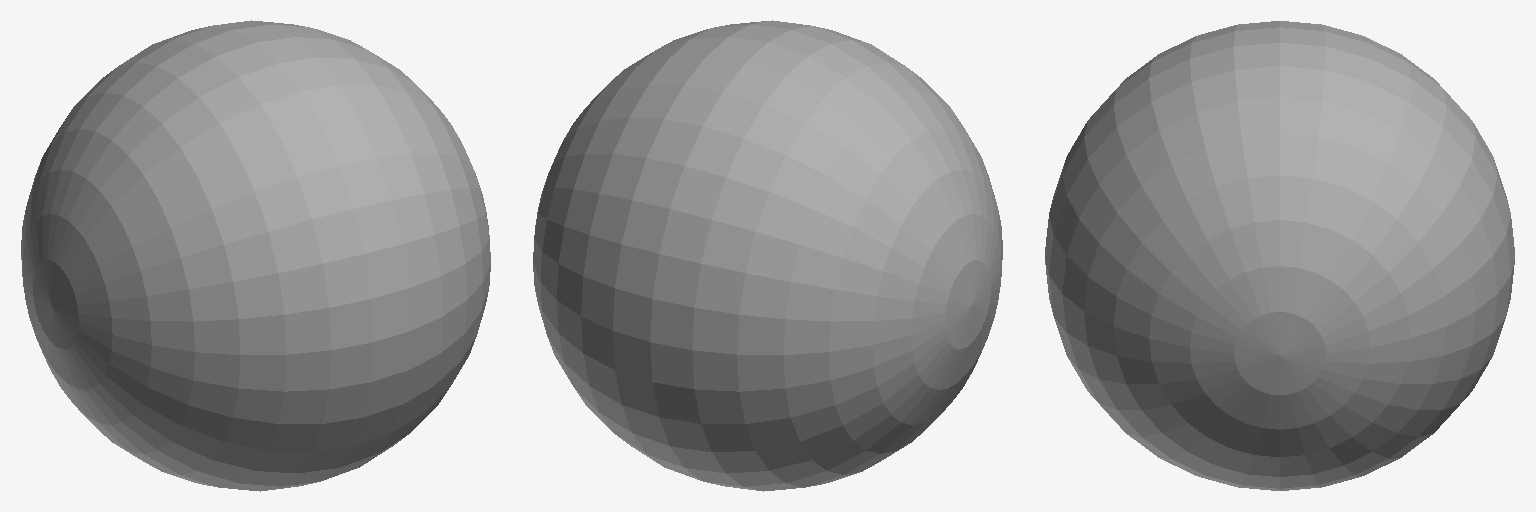
URDF robot description (panda):
<?xml version="1.0" ?>
<!-- =================================================================================== -->
<!-- |    This document was autogenerated by xacro from panda_arm_hand.urdf.xacro      | -->
<!-- |    EDITING THIS FILE BY HAND IS NOT RECOMMENDED                                 | -->
<!-- =================================================================================== -->
<robot name="panda" xmlns:xacro="http://www.ros.org/wiki/xacro">
  <link name="base_link"/>
  <joint name="base_joint" type="fixed">
    <origin rpy="0 0 0" xyz="0 0 0"/>
    <parent link="base_link"/>
    <child link="panda_link0"/>
  </joint>
  <link name="panda_link0">
  	<inertial>
      <origin rpy="0 0 0" xyz="0 0 0.05"/>
       <mass value="2.9"/>
       <inertia ixx="0.1" ixy="0" ixz="0" iyy="0.1" iyz="0" izz="0.1"/>
    </inertial>
    <visual>
      <geometry>
        <mesh filename="meshes/visual/link0.dae"/>
      </geometry>
      <material name="panda_white">
    		<color rgba="1. 1. 1. 1."/>
  		</material>
    </visual>
    <collision>
      <geometry>
        <mesh filename="meshes/collision/link0.stl"/>
      </geometry>
      <material name="panda_white"/>
    </collision>
  </link>
  <link name="panda_link1">
  	<inertial>
      <origin rpy="0 0 0" xyz="0 -0.04 -0.05"/>
       <mass value="2.7"/>
       <inertia ixx="0.1" ixy="0" ixz="0" iyy="0.1" iyz="0" izz="0.1"/>
    </inertial>
    <visual>
      <geometry>
        <mesh filename="meshes/visual/link1.dae"/>
      </geometry>
      <material name="panda_white"/>
    </visual>
    <collision>
      <geometry>
        <mesh filename="meshes/collision/link1.stl"/>
      </geometry>
      <material name="panda_white"/>
    </collision>
  </link>
  <joint name="panda_joint1" type="revolute">
    <safety_controller k_position="100.0" k_velocity="40.0" soft_lower_limit="-2.8973" soft_upper_limit="2.8973"/>
    <origin rpy="0 0 0" xyz="0 0 0.333"/>
    <parent link="panda_link0"/>
    <child link="panda_link1"/>
    <axis xyz="0 0 1"/>
    <limit effort="87" lower="-2.8973" upper="2.8973" velocity="2.1750"/>
  </joint>
  <link name="panda_link2">
  	<inertial>
      <origin rpy="0 0 0" xyz="0 -0.04 0.06"/>
       <mass value="2.73"/>
       <inertia ixx="0.1" ixy="0" ixz="0" iyy="0.1" iyz="0" izz="0.1"/>
    </inertial>
    <visual>
      <geometry>
        <mesh filename="meshes/visual/link2.dae"/>
      </geometry>
      <material name="panda_white"/>
    </visual>
    <collision>
      <geometry>
        <mesh filename="meshes/collision/link2.stl"/>
      </geometry>
      <material name="panda_white"/>
    </collision>
  </link>
  <joint name="panda_joint2" type="revolute">
    <safety_controller k_position="100.0" k_velocity="40.0" soft_lower_limit="-1.7628" soft_upper_limit="1.7628"/>
    <origin rpy="-1.57079632679 0 0" xyz="0 0 0"/>
    <parent link="panda_link1"/>
    <child link="panda_link2"/>
    <axis xyz="0 0 1"/>
    <limit effort="87" lower="-1.7628" upper="1.7628" velocity="2.1750"/>
  </joint>
  <link name="panda_link3">
	  <inertial>
      <origin rpy="0 0 0" xyz="0.01 0.01 -0.05"/>
       <mass value="2.04"/>
       <inertia ixx="0.1" ixy="0" ixz="0" iyy="0.1" iyz="0" izz="0.1"/>
    </inertial>
    <visual>
      <geometry>
        <mesh filename="meshes/visual/link3.dae"/>
      </geometry>
      <material name="panda_red">
    		<color rgba="1. 1. 1. 1."/>
  		</material>
    </visual>
    <collision>
      <geometry>
        <mesh filename="meshes/collision/link3.stl"/>
      </geometry>
    </collision>
  </link>
  <joint name="panda_joint3" type="revolute">
    <safety_controller k_position="100.0" k_velocity="40.0" soft_lower_limit="-2.8973" soft_upper_limit="2.8973"/>
    <origin rpy="1.57079632679 0 0" xyz="0 -0.316 0"/>
    <parent link="panda_link2"/>
    <child link="panda_link3"/>
    <axis xyz="0 0 1"/>
    <limit effort="87" lower="-2.8973" upper="2.8973" velocity="2.1750"/>
  </joint>
  <link name="panda_link4">
  	<inertial>
      <origin rpy="0 0 0" xyz="-0.03 0.03 0.02"/>
       <mass value="2.08"/>
       <inertia ixx="0.1" ixy="0" ixz="0" iyy="0.1" iyz="0" izz="0.1"/>
    </inertial>
    <visual>
      <geometry>
        <mesh filename="meshes/visual/link4.dae"/>
      </geometry>
      <material name="panda_white"/>
    </visual>
    <collision>
      <geometry>
        <mesh filename="meshes/collision/link4.stl"/>
      </geometry>
      <material name="panda_white"/>
    </collision>
  </link>
  <joint name="panda_joint4" type="revolute">
    <safety_controller k_position="100.0" k_velocity="40.0" soft_lower_limit="-3.0718" soft_upper_limit="-0.0698"/>
    <origin rpy="1.57079632679 0 0" xyz="0.0825 0 0"/>
    <parent link="panda_link3"/>
    <child link="panda_link4"/>
    <axis xyz="0 0 1"/>
    <limit effort="87" lower="-3.0718" upper="-0.0698" velocity="2.1750"/>
  </joint>
  <link name="panda_link5">
  	<inertial>
      <origin rpy="0 0 0" xyz="0 0.04 -0.12"/>
       <mass value="3"/>
       <inertia ixx="0.1" ixy="0" ixz="0" iyy="0.1" iyz="0" izz="0.1"/>
    </inertial>
    <visual>
      <geometry>
        <mesh filename="meshes/visual/link5.dae"/>
      </geometry>
      <material name="panda_white"/>
    </visual>
    <collision>
      <geometry>
        <mesh filename="meshes/collision/link5.stl"/>
      </geometry>
      <material name="panda_white"/>
    </collision>
  </link>
  <joint name="panda_joint5" type="revolute">
    <safety_controller k_position="100.0" k_velocity="40.0" soft_lower_limit="-2.8973" soft_upper_limit="2.8973"/>
    <origin rpy="-1.57079632679 0 0" xyz="-0.0825 0.384 0"/>
    <parent link="panda_link4"/>
    <child link="panda_link5"/>
    <axis xyz="0 0 1"/>
    <limit effort="12" lower="-2.8973" upper="2.8973" velocity="2.6100"/>
  </joint>
  <link name="panda_link6">
  	<inertial>
      <origin rpy="0 0 0" xyz="0.04 0 0"/>
       <mass value="1.3"/>
       <inertia ixx="0.1" ixy="0" ixz="0" iyy="0.1" iyz="0" izz="0.1"/>
    </inertial>
    <visual>
      <geometry>
        <mesh filename="meshes/visual/link6.dae"/>
      </geometry>
      <material name="panda_white"/>
    </visual>
    <collision>
      <geometry>
        <mesh filename="meshes/collision/link6.stl"/>
      </geometry>
      <material name="panda_white"/>
    </collision>
  </link>
  <joint name="panda_joint6" type="revolute">
    <safety_controller k_position="100.0" k_velocity="40.0" soft_lower_limit="-0.0175" soft_upper_limit="3.7525"/>
    <origin rpy="1.57079632679 0 0" xyz="0 0 0"/>
    <parent link="panda_link5"/>
    <child link="panda_link6"/>
    <axis xyz="0 0 1"/>
    <limit effort="12" lower="-0.0175" upper="3.7525" velocity="2.6100"/>
  </joint>
  <link name="panda_link7">
  	<inertial>
      <origin rpy="0 0 0" xyz="0 0 0.08"/>
       <mass value=".2"/>
       <inertia ixx="0.1" ixy="0" ixz="0" iyy="0.1" iyz="0" izz="0.1"/>
    </inertial>
    <visual>
      <geometry>
        <mesh filename="meshes/visual/link7.dae"/>
      </geometry>
      <material name="panda_white"/>
    </visual>
    <collision>
      <geometry>
        <mesh filename="meshes/collision/link7.stl"/>
      </geometry>
      <material name="panda_white"/>
    </collision>
  </link>
  <joint name="panda_joint7" type="revolute">
    <safety_controller k_position="100.0" k_velocity="40.0" soft_lower_limit="-2.8973" soft_upper_limit="2.8973"/>
    <origin rpy="1.57079632679 0 0" xyz="0.088 0 0"/>
    <parent link="panda_link6"/>
    <child link="panda_link7"/>
    <axis xyz="0 0 1"/>
    <limit effort="12" lower="-2.8973" upper="2.8973" velocity="2.6100"/>
  </joint>
  <link name="panda_link8">
  	 <inertial>
      <origin rpy="0 0 0" xyz="0 0 0"/>
       <mass value="0.0"/>
       <inertia ixx="0.1" ixy="0" ixz="0" iyy="0.1" iyz="0" izz="0.1"/>
    </inertial>
  </link>
  <joint name="panda_joint8" type="fixed">
    <origin rpy="0 0 0" xyz="0 0 0.107"/>
    <parent link="panda_link7"/>
    <child link="panda_link8"/>
    <axis xyz="0 0 0"/>
  </joint>
  <joint name="panda_hand_joint" type="fixed">
    <parent link="panda_link8"/>
    <child link="panda_hand"/>
    <origin rpy="0 0 -0.785398163397" xyz="0 0 0"/>
  </joint>
  <link name="panda_hand">
  	<inertial>
      <origin rpy="0 0 0" xyz="0 0 0.04"/>
       <mass value=".81"/>
       <inertia ixx="0.1" ixy="0" ixz="0" iyy="0.1" iyz="0" izz="0.1"/>
    </inertial>
    <visual>
      <geometry>
        <mesh filename="meshes/visual/hand.dae"/>
      </geometry>
      <material name="panda_white"/>
    </visual>
    <collision>
      <geometry>
        <mesh filename="meshes/collision/hand.stl"/>
      </geometry>
      <material name="panda_white"/>
    </collision>
  </link>
  <link name="panda_leftfinger">
       <contact>
      <friction_anchor/>
      <stiffness value="30000.0"/>
      <damping value="1000.0"/>
      <spinning_friction value="0.1"/>
      <lateral_friction value="1.0"/>
    </contact>
  	<inertial>
      <origin rpy="0 0 0" xyz="0 0.01 0.02"/>
       <mass value="0.1"/>
       <inertia ixx="0.1" ixy="0" ixz="0" iyy="0.1" iyz="0" izz="0.1"/>
    </inertial>
    <visual>
      <geometry>
        <mesh filename="meshes/visual/finger.dae"/>
      </geometry>
      <material name="panda_white"/>
    </visual>
    <collision>
      <geometry>
        <mesh filename="meshes/collision/finger.stl"/>
      </geometry>
      <material name="panda_white"/>
    </collision>
  </link>
  <link name="panda_rightfinger">
        <contact>
      <friction_anchor/>
      <stiffness value="30000.0"/>
      <damping value="1000.0"/>
      <spinning_friction value="0.1"/>
      <lateral_friction value="1.0"/>
    </contact>

  	<inertial>
      <origin rpy="0 0 0" xyz="0 -0.01 0.02"/>
       <mass value="0.1"/>
       <inertia ixx="0.1" ixy="0" ixz="0" iyy="0.1" iyz="0" izz="0.1"/>
    </inertial>
    <visual>
      <origin rpy="0 0 3.14159265359" xyz="0 0 0"/>
      <geometry>
        <mesh filename="meshes/visual/finger.dae"/>
      </geometry>
      <material name="panda_white"/>
    </visual>
    <collision>
      <origin rpy="0 0 3.14159265359" xyz="0 0 0"/>
      <geometry>
        <mesh filename="meshes/collision/finger.stl"/>
      </geometry>
      <material name="panda_white"/>
    </collision>
  </link>
  <!-- <joint name="panda_finger_joint1" type="prismatic"> -->
  <joint name="panda_finger_joint1" type="fixed">
    <parent link="panda_hand"/>
    <child link="panda_leftfinger"/>
    <origin rpy="0 0 0" xyz="0 0 0.0584"/>
    <axis xyz="0 1 0"/>
    <!-- <limit effort="20" lower="0.0" upper="0.04" velocity="0.2"/> -->
  </joint>
  <!-- <joint name="panda_finger_joint2" type="prismatic"> -->
  <joint name="panda_finger_joint2" type="fixed">
    <parent link="panda_hand"/>
    <child link="panda_rightfinger"/>
    <origin rpy="0 0 0" xyz="0 0 0.0584"/>
    <axis xyz="0 -1 0"/>
    <!-- <limit effort="20" lower="0.0" upper="0.04" velocity="0.2"/>
    <mimic joint="panda_finger_joint1"/> -->
  </joint>
  <link name="right_gripper">
    <inertial>
      <!-- Dummy inertial parameters to avoid link lumping-->
      <mass value="0.01"/>
      <inertia ixx="0.0001" ixy="0.0" ixz="0.0" iyy="0.0001" iyz="0.0" izz="0.0001"/>
      <origin rpy="0 0 0" xyz="0 0 0"/>
    </inertial>
  </link>
  <joint name="right_gripper" type="fixed">
    <origin rpy="0 0 2.35619449019" xyz="0 0 0.1"/>
      <axis xyz="0 0 1"/>
    <parent link="panda_link8"/>
    <child link="right_gripper"/>
  </joint>
   <link name="panda_grasptarget">
 <inertial>
      <origin rpy="0 0 0" xyz="0 0 0"/>
       <mass value="0.0"/>
       <inertia ixx="0.1" ixy="0" ixz="0" iyy="0.1" iyz="0" izz="0.1"/>
    </inertial>
   </link>
   <joint name="panda_grasptarget_hand" type="fixed">
    <parent link="panda_hand"/>
    <child link="panda_grasptarget"/>
    <origin rpy="0 0 0" xyz="0 0 0.105"/>
  </joint>

  <link name="gripper_base_target">
    <visual>
      <geometry>
        <sphere radius="0.01"/>
      </geometry>
    </visual>
  </link>
  <joint name="gripper_parent_to_target" type="fixed">
    <parent link="panda_hand"/>
    <child link="gripper_base_target"/>
    <origin rpy="0 0 0" xyz="0 0 0"/>
  </joint>

</robot>

--- Facts derived from the render (not from the file) ---
The picture shows the robot from 3 angles, left to right: view 1: azimuth 30°, elevation 25°; view 2: azimuth 150°, elevation 25°; view 3: azimuth 270°, elevation 25°; orthographic projection.
Model panda with 16 links and 15 joints (7 revolute, 8 fixed), rooted at base_link, posed all joints at 0 but 1 set to mid-range because 0 is outside their limits (panda_joint4 = -1.57).
Links seen in each view (by area): view 1: gripper_base_target; view 2: gripper_base_target; view 3: gripper_base_target.
Boxes of the visible links, left/top/right/bottom form: gripper_base_target: left=21, top=20, right=490, bottom=491; gripper_base_target: left=533, top=20, right=1002, bottom=491; gripper_base_target: left=1045, top=21, right=1514, bottom=490.
Bounding box of the posed robot: 0.02 × 0.02 × 0.02 m (x, y, z).
0 mesh visuals loaded from 10 distinct referenced files (none loaded); not drawn: 11 (reference not matched to a file when rendering).